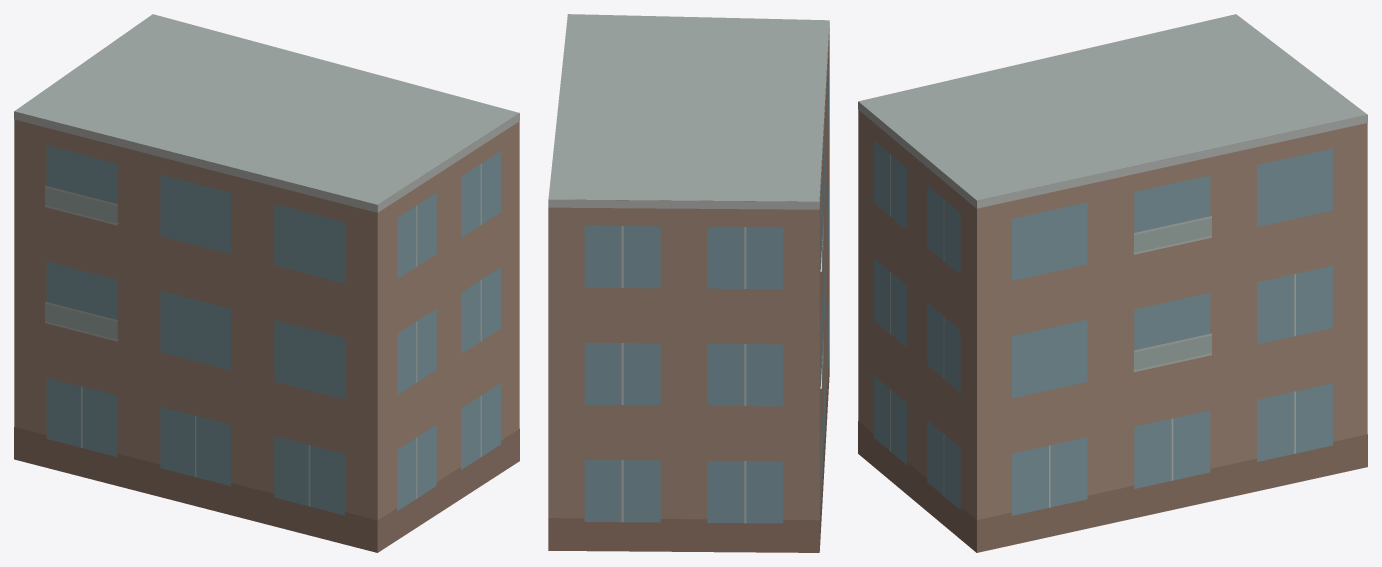
File: survey-upis-32681014.glb
3 renders of one model, left to right at view 1: azimuth 30°, elevation 25°; view 2: azimuth 150°, elevation 25°; view 3: azimuth 270°, elevation 25°, orthographic.
Visible parts, largest first — view 1: survey-upis-32681014.tmp; view 2: survey-upis-32681014.tmp; view 3: survey-upis-32681014.tmp.
Part boxes in pixels (<box>): survey-upis-32681014.tmp: <box>14,14,519,552</box>; survey-upis-32681014.tmp: <box>548,14,829,552</box>; survey-upis-32681014.tmp: <box>858,14,1367,552</box>.
Size of the model in its own units: 11.93 by 10.5 by 13.77.
